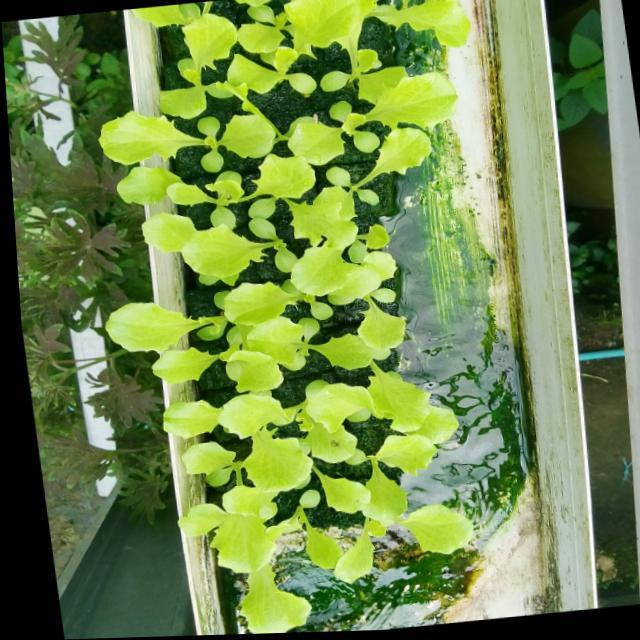Baby: (131, 0, 314, 118), (205, 486, 310, 634), (163, 390, 312, 492), (306, 504, 473, 582), (295, 369, 430, 462), (153, 316, 307, 391), (142, 213, 297, 285), (117, 153, 315, 205), (342, 67, 457, 151), (285, 166, 396, 249), (308, 295, 405, 369), (290, 240, 396, 304), (98, 110, 219, 165), (358, 433, 437, 517), (105, 301, 230, 353), (219, 114, 275, 158)
